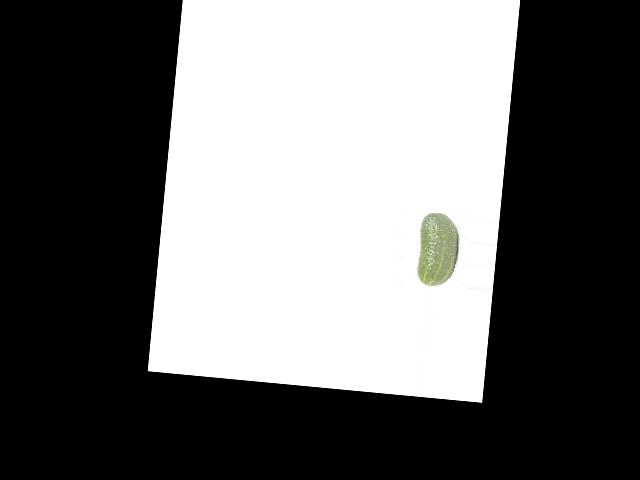cucumber: (416, 211, 461, 288)
